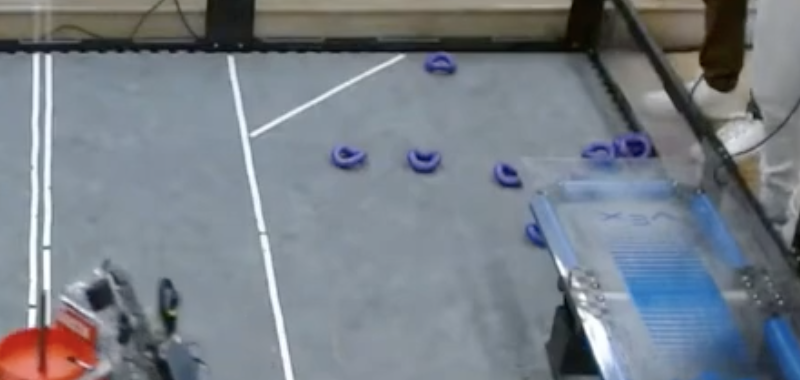ring: (614, 134, 653, 164), (405, 148, 442, 175), (580, 141, 618, 167), (494, 159, 527, 188), (332, 144, 366, 170), (526, 218, 556, 246), (424, 49, 456, 75)
